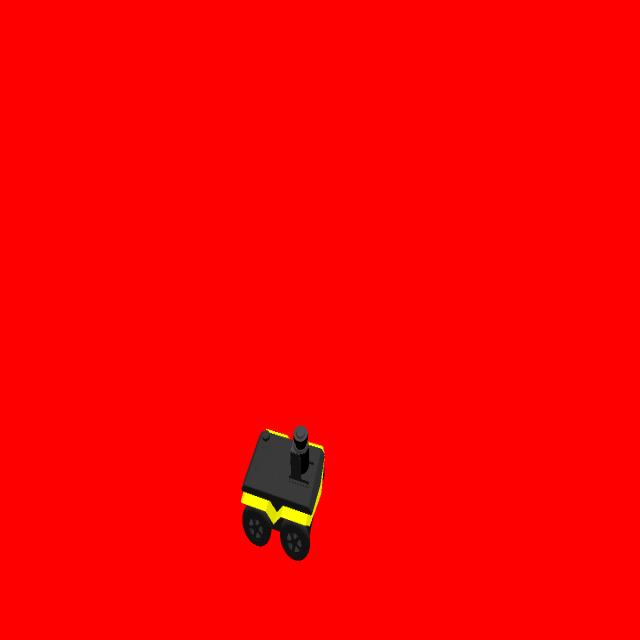jackal: (239, 426, 325, 564)
